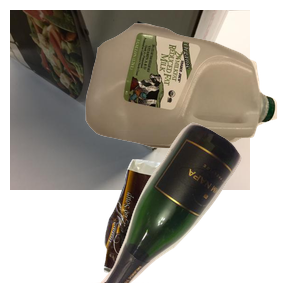cardboard: (10, 10, 250, 190)
glass: (87, 120, 300, 300)
plastic: (83, 21, 300, 162)
trash: (101, 157, 270, 300)
